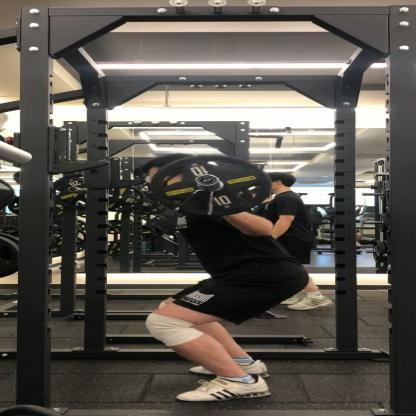barbell: (150, 154, 271, 216)
